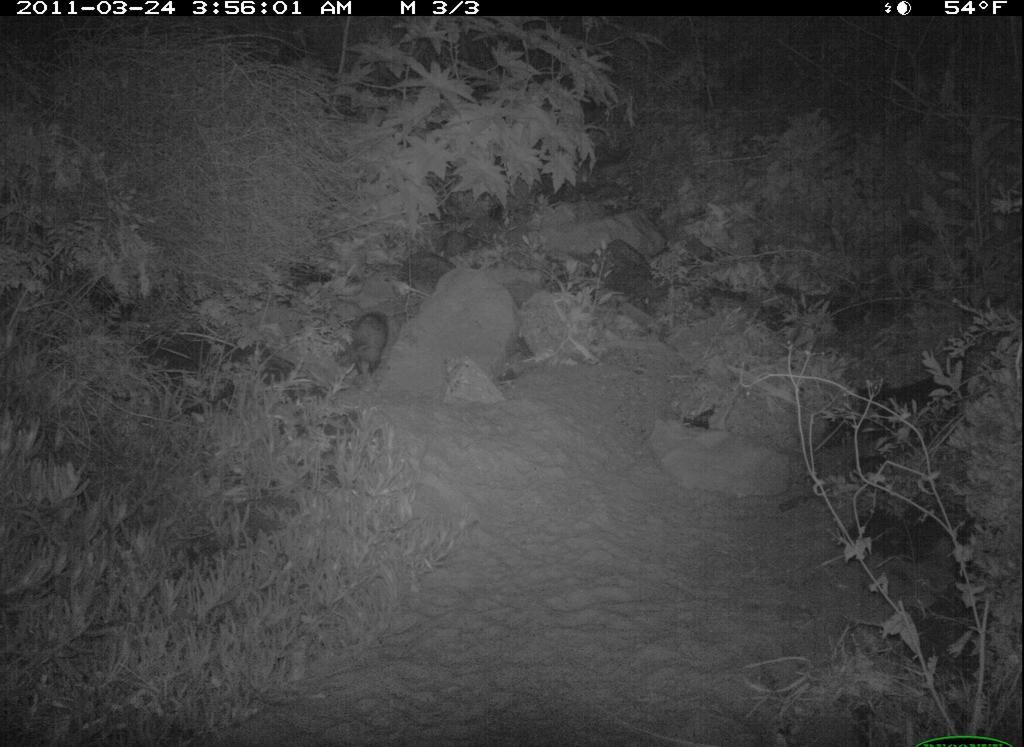opossum: (335, 300, 399, 386)
